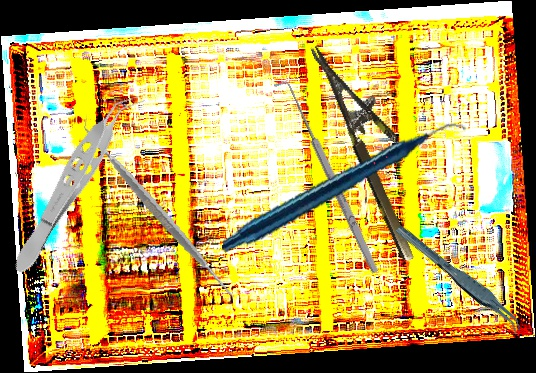Handpiece: (221, 93, 467, 284)
Hook Surgical: (273, 75, 382, 279)
Needle Holder: (310, 30, 443, 264)
Spatula Surgical: (59, 113, 258, 310)
Tissue Forceps: (3, 82, 147, 281), (394, 211, 526, 346)
